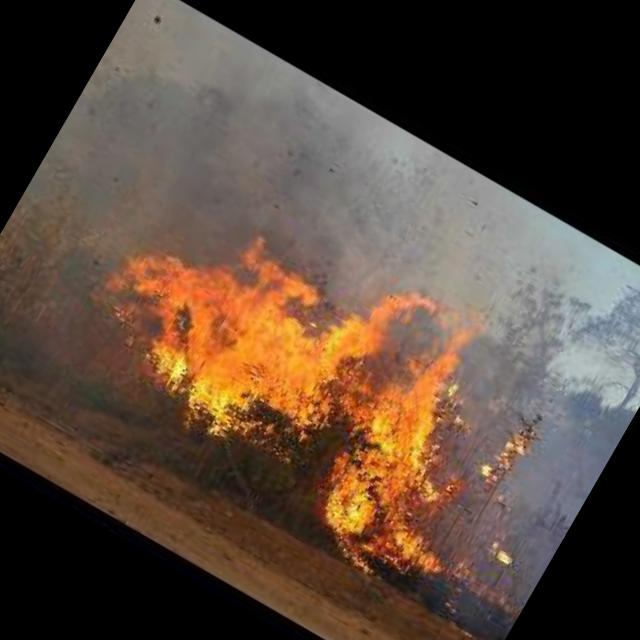fire: (71, 158, 538, 568)
smoke: (42, 11, 405, 322)
